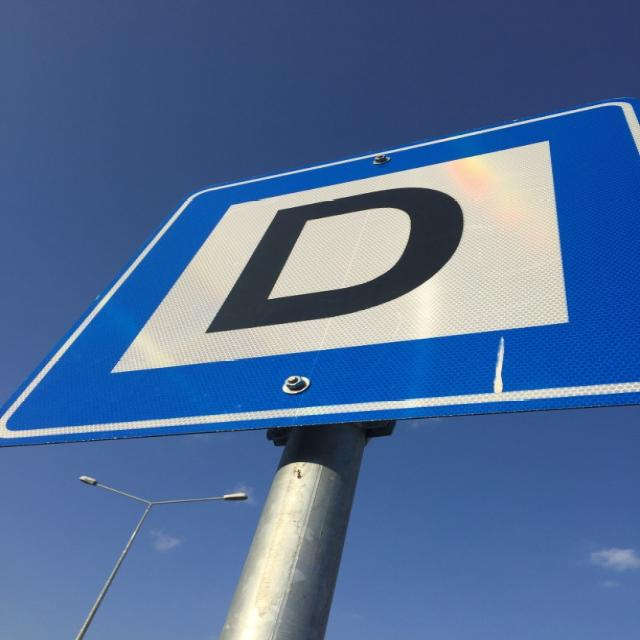durak: (4, 92, 640, 452)
